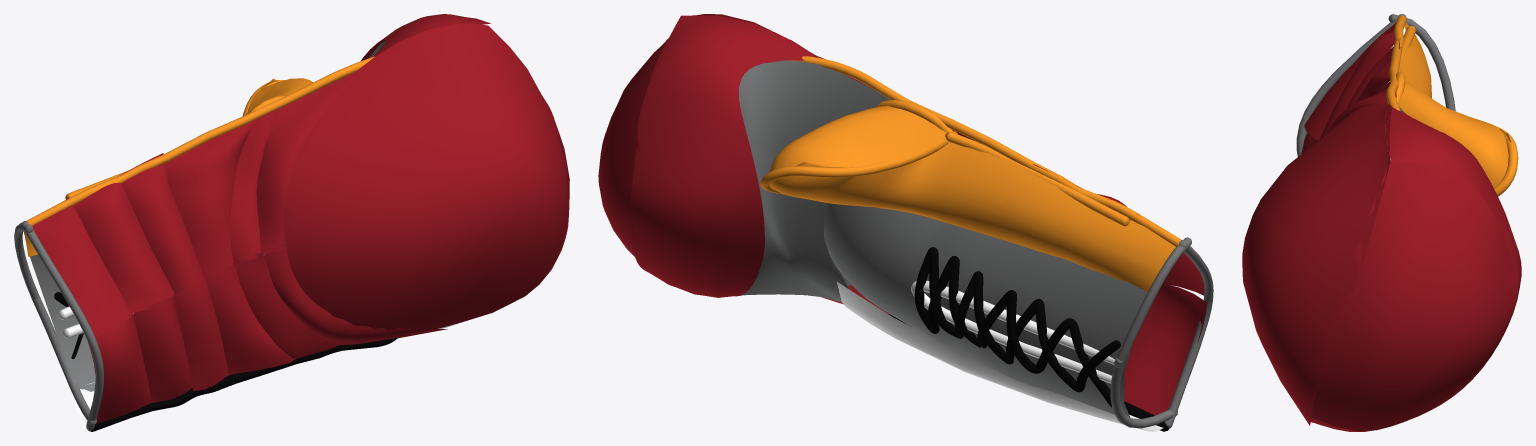
Rendered from boxing_gloves2.obj.
The picture shows the model from 3 angles, left to right: view 1: azimuth 30°, elevation 25°; view 2: azimuth 150°, elevation 25°; view 3: azimuth 270°, elevation 25°; orthographic projection. The views are drawn at different scales.
Visible parts, largest first — view 1: n.0090, n.0067, n.0071, n.0065, n.0073, n.0070, n.0081, n.0084, n.0085, n.0080, n.0079, n.0082 (+9 smaller); view 2: n.0113, n.0156, n.0153, n.0157, s.0160, n.0154, n.0085, n.0088, n.0122, s.0123, s.0120, s.0149 (+6 smaller); view 3: n.0088, n.0090, n.0113, n.0154, n.0071, n.0073, s.0048, n.0153, s.0049, s.0123, s.0149, n.0065 (+3 smaller).
Part boxes in pixels (x1,y1,x2,y2): n.0090: (283, 23, 569, 337); n.0067: (164, 119, 257, 279); n.0071: (73, 183, 174, 313); n.0065: (256, 73, 355, 254); n.0073: (32, 198, 132, 337); n.0070: (119, 153, 204, 293); n.0081: (205, 265, 296, 375); n.0084: (134, 295, 192, 402); n.0085: (88, 313, 151, 423); n.0080: (232, 253, 339, 358); n.0079: (263, 241, 447, 345); n.0082: (173, 279, 228, 391); n.0113: (630, 15, 815, 297); n.0156: (824, 203, 1147, 417); n.0153: (769, 142, 1186, 291); n.0157: (739, 60, 890, 303); s.0160: (914, 247, 1120, 407); n.0154: (770, 106, 946, 183); n.0085: (1124, 283, 1206, 415); n.0088: (598, 38, 668, 261); n.0122: (837, 282, 1163, 431); s.0123: (787, 56, 1181, 246); s.0120: (911, 280, 1115, 383); s.0149: (760, 131, 957, 194); n.0088: (1311, 160, 1518, 431); n.0090: (1242, 103, 1391, 425); n.0113: (1306, 106, 1521, 431); n.0154: (1398, 80, 1508, 187); n.0071: (1319, 31, 1394, 139); n.0073: (1304, 22, 1396, 140); s.0048: (1296, 14, 1406, 156); n.0153: (1400, 23, 1510, 141); s.0049: (1388, 14, 1455, 111); s.0123: (1386, 15, 1406, 110); s.0149: (1449, 109, 1518, 196); n.0065: (1327, 88, 1396, 132).
Size of the model in its own units: 0.3061 by 0.1671 by 0.1296.
